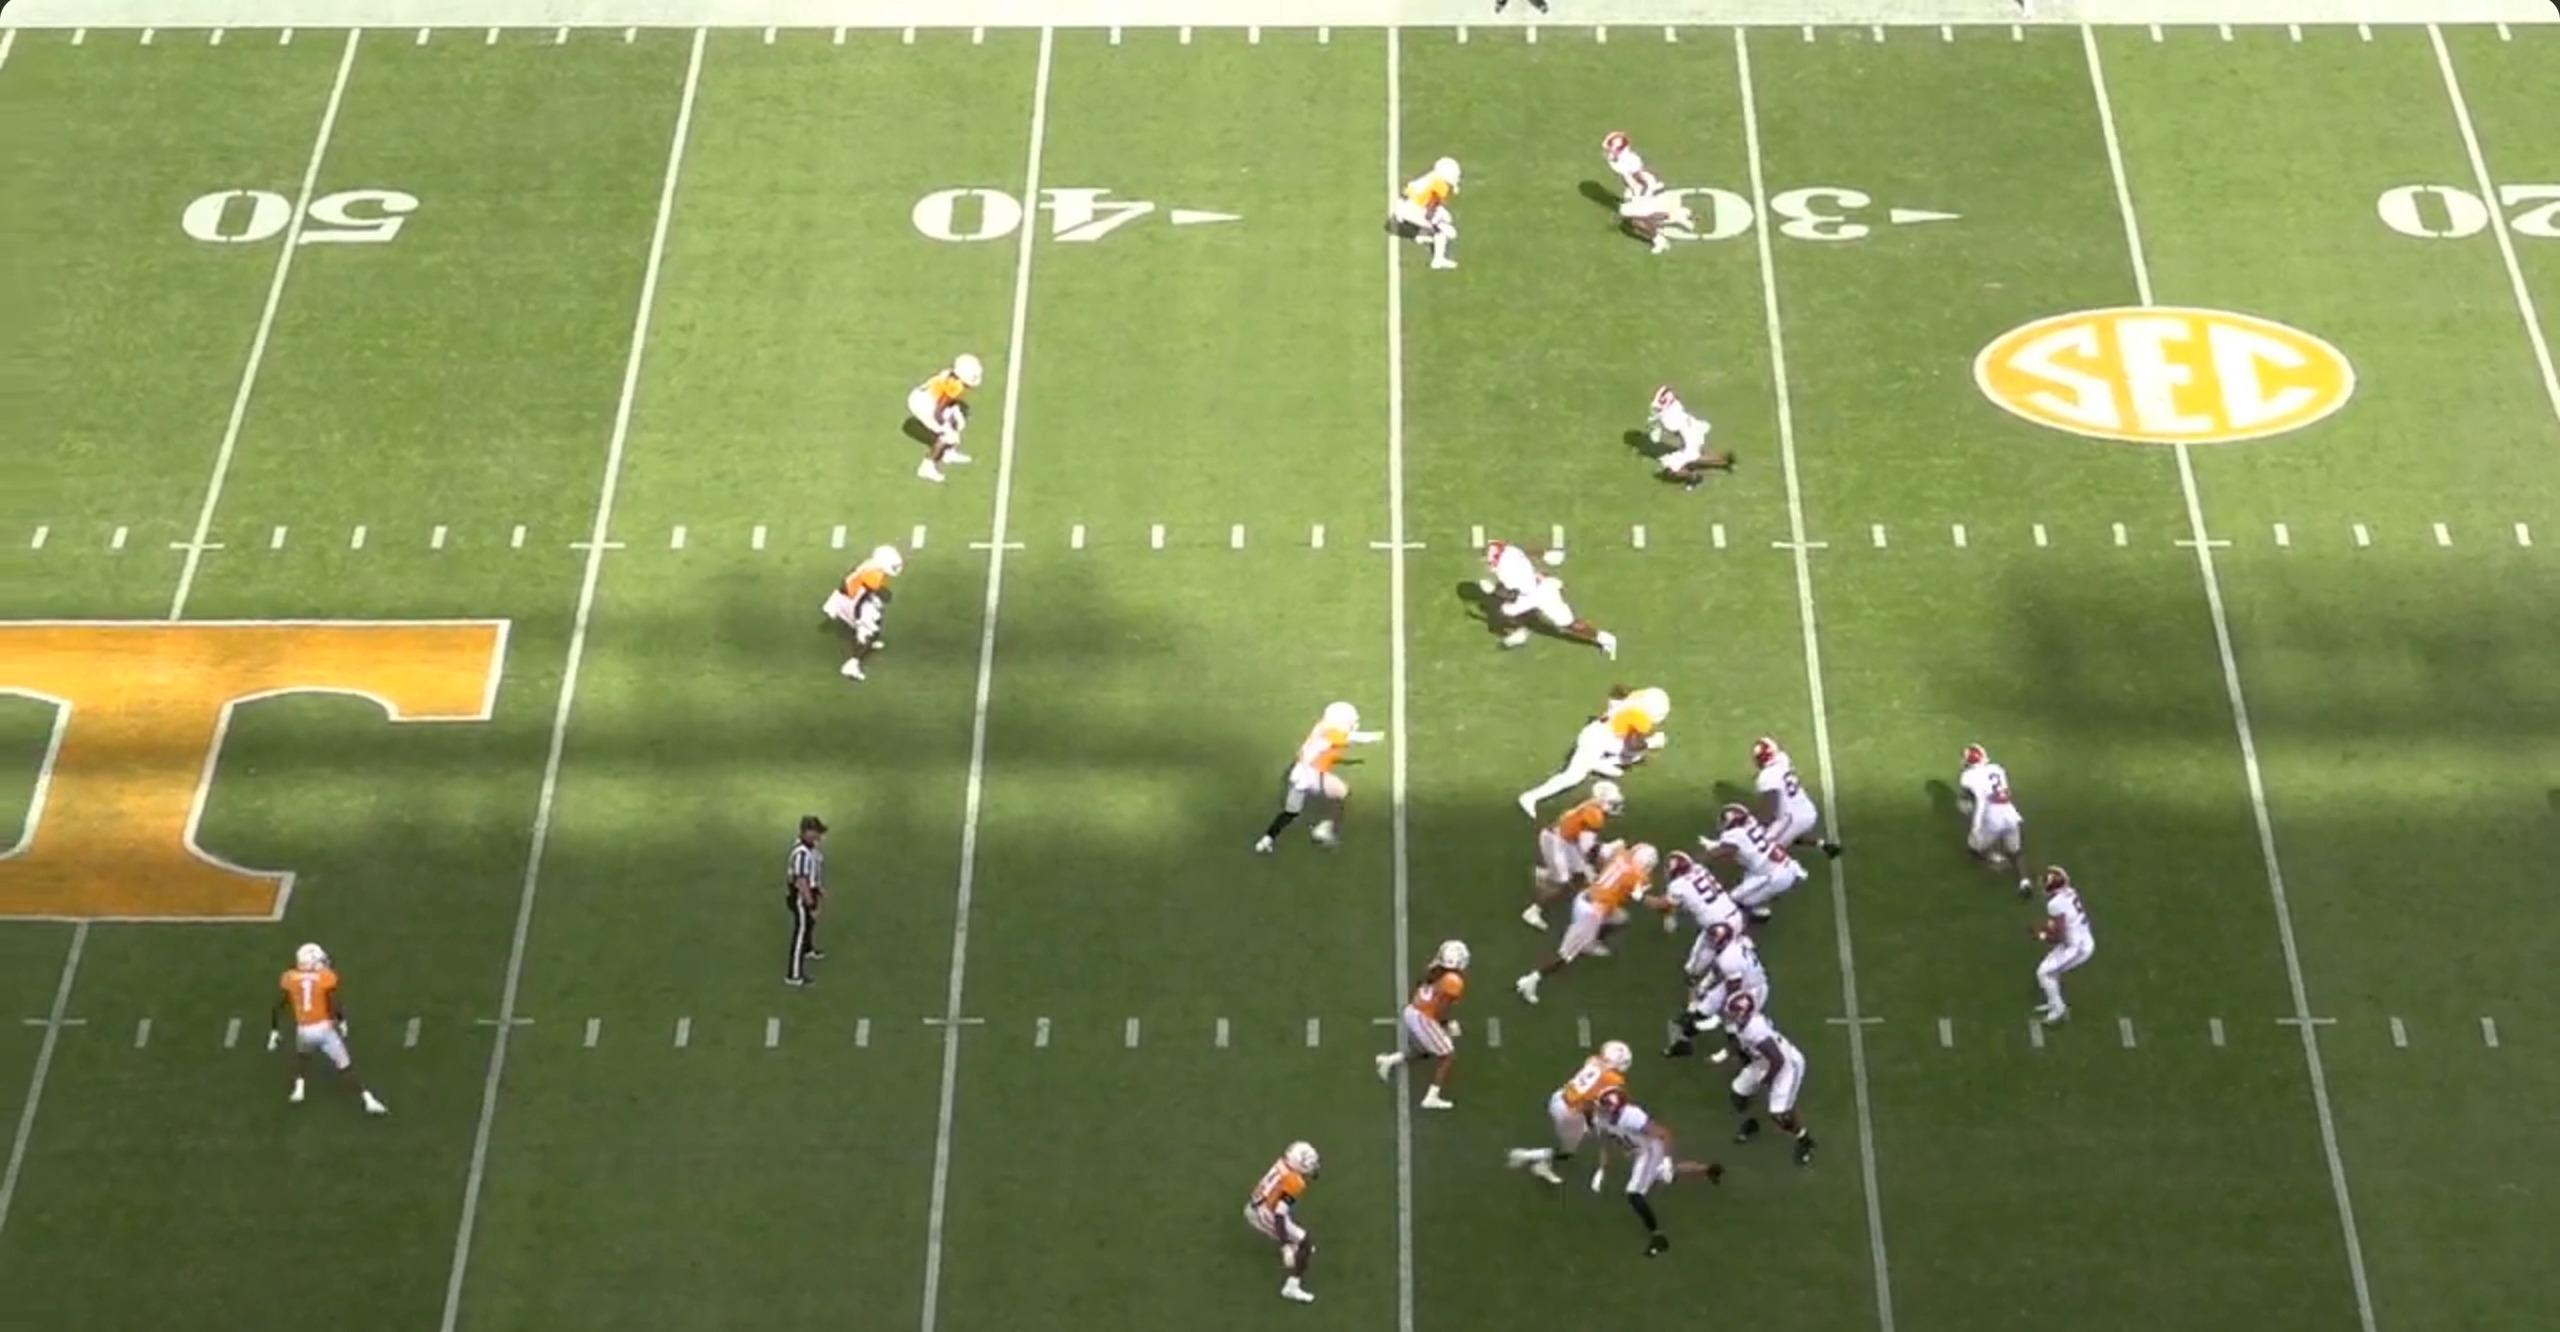defense: (1514, 845, 1661, 1012), (271, 941, 394, 1127), (1510, 685, 1673, 824), (1502, 1031, 1641, 1190), (1250, 692, 1373, 858), (1378, 936, 1492, 1115), (1522, 780, 1641, 933), (1251, 1141, 1346, 1313), (825, 542, 916, 687), (911, 347, 996, 486), (1395, 149, 1476, 272)
oline: (1707, 1000, 1820, 1175), (1659, 919, 1774, 1061), (1647, 843, 1759, 975), (1744, 736, 1851, 868), (1698, 799, 1800, 926)
qb: (2011, 865, 2101, 1034)
ref: (770, 812, 835, 999)
skill: (1573, 1085, 1719, 1266), (1476, 531, 1629, 662), (1937, 741, 2028, 904), (1600, 129, 1702, 257), (1625, 381, 1725, 496)
